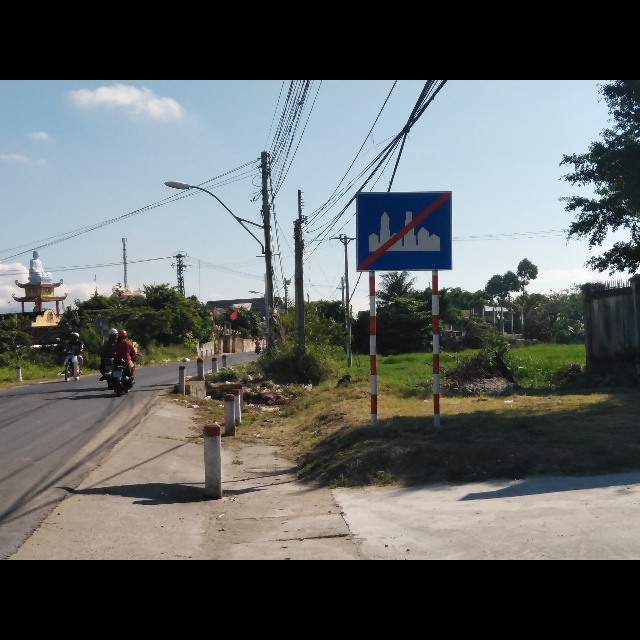Hết khu đông dân cư: (355, 192, 453, 272)
